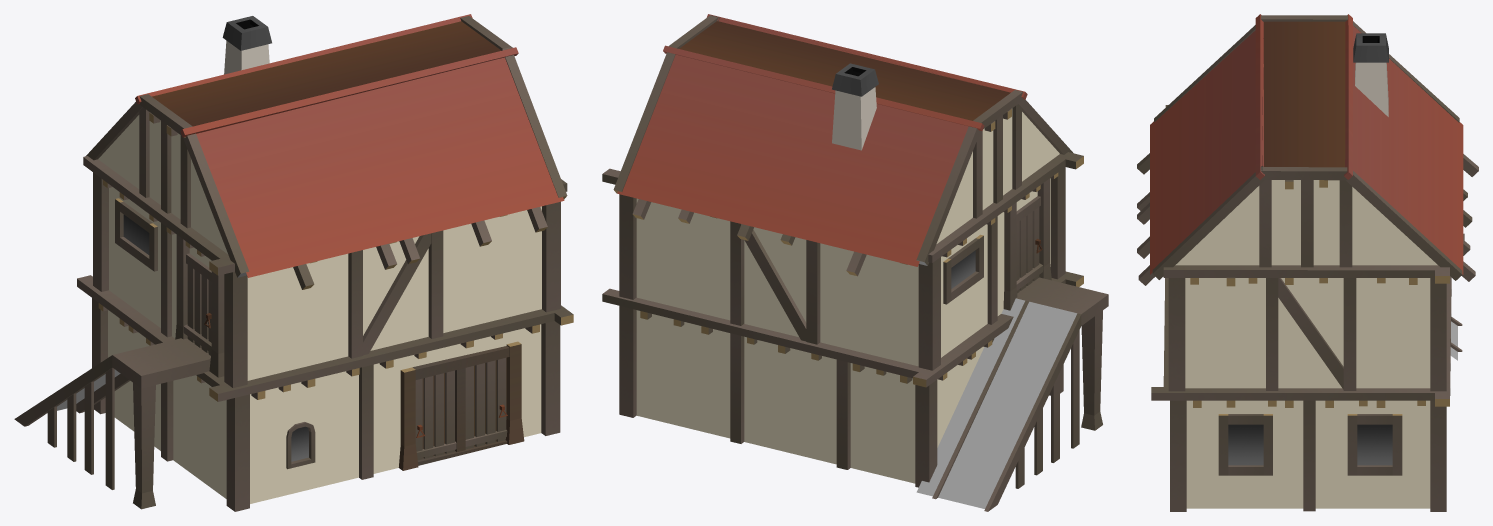
File: House_10_Phys.fbx
3 views of the same model, side by side, from view 1: azimuth 30°, elevation 25°; view 2: azimuth 150°, elevation 25°; view 3: azimuth 270°, elevation 25° (orthographic). The views are drawn at different scales.
Parts seen in each view (by area): view 1: polySurface9619; view 2: polySurface9619; view 3: polySurface9619.
Part boxes in pixels (box(x1,y1,x2,y2)): polySurface9619: box(14, 14, 573, 511); polySurface9619: box(602, 14, 1108, 511); polySurface9619: box(1137, 14, 1478, 511).
Bounding box in the file's own units: 968 × 861 × 716.
